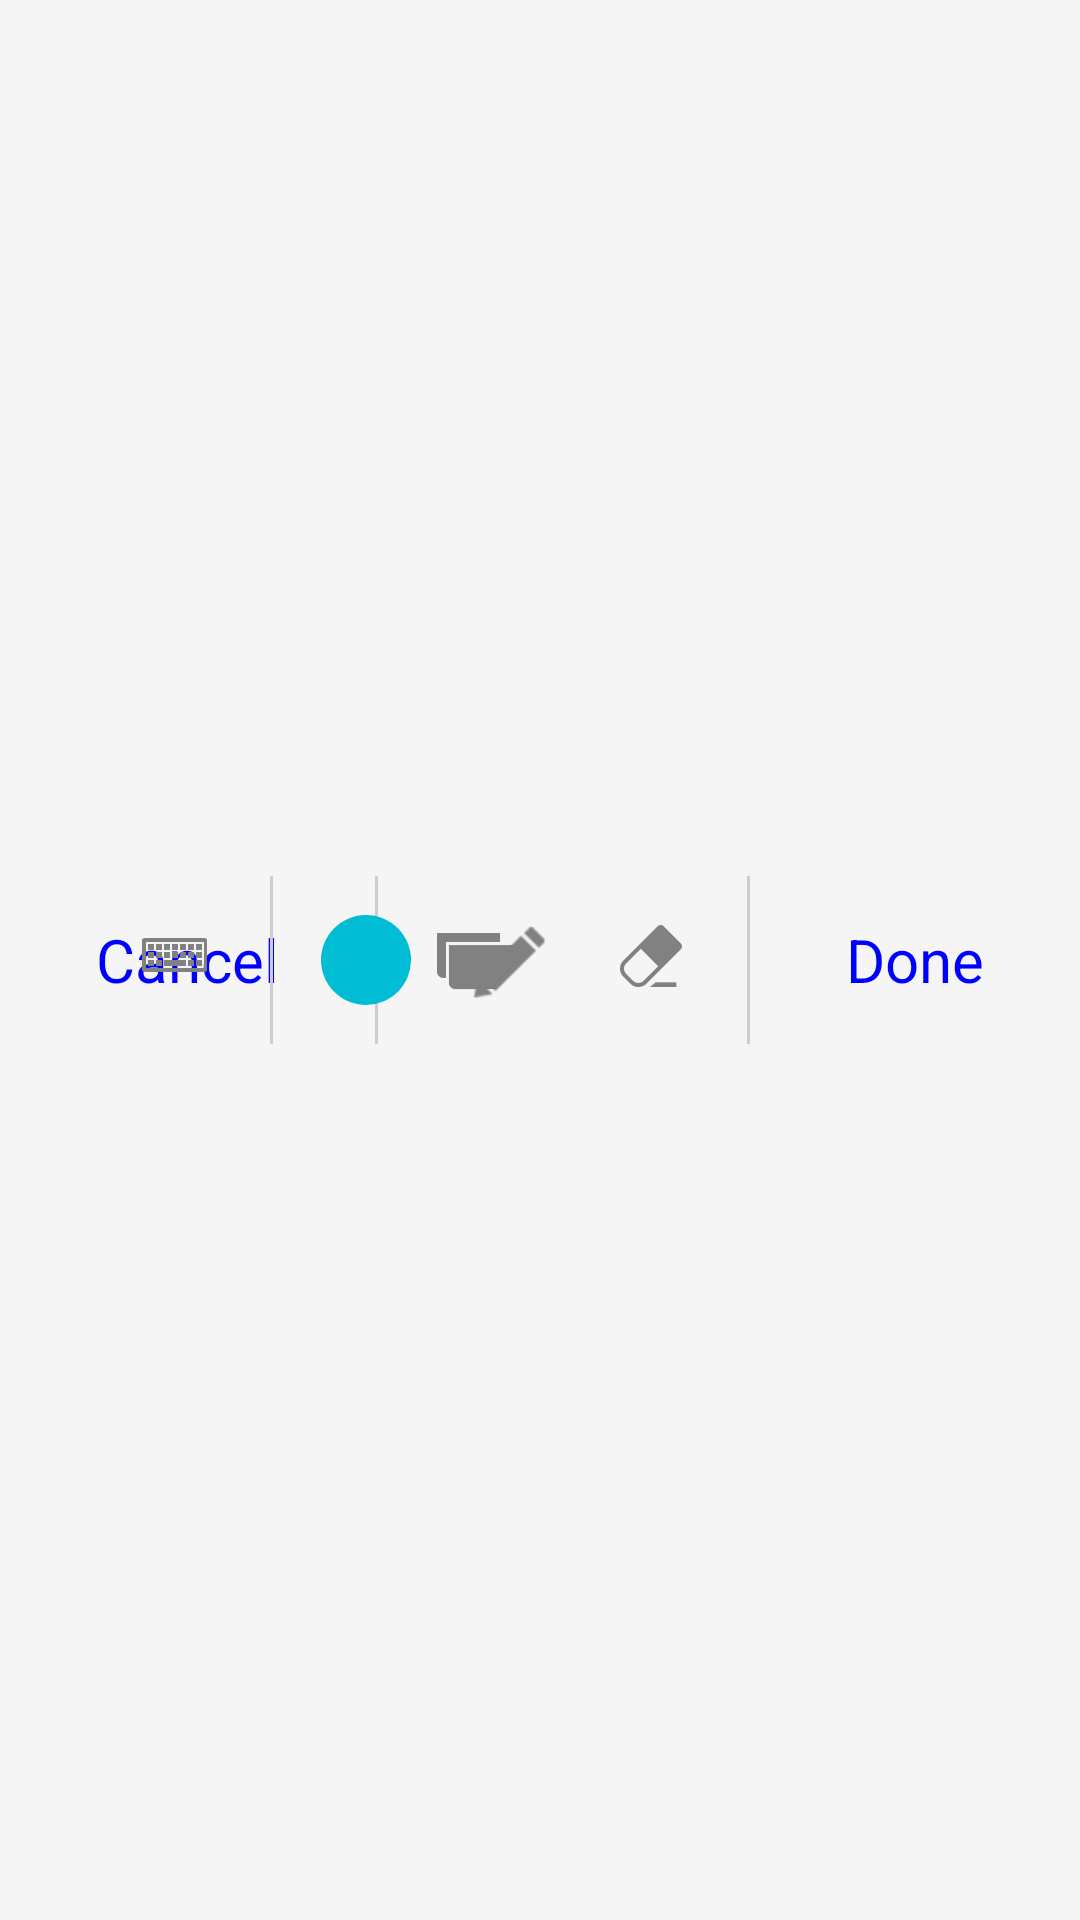

Icon bounding boxes for this 1080x1920 phone screenshot, format (x1, y1, x2, y2):
erase: (620, 925, 682, 987)
